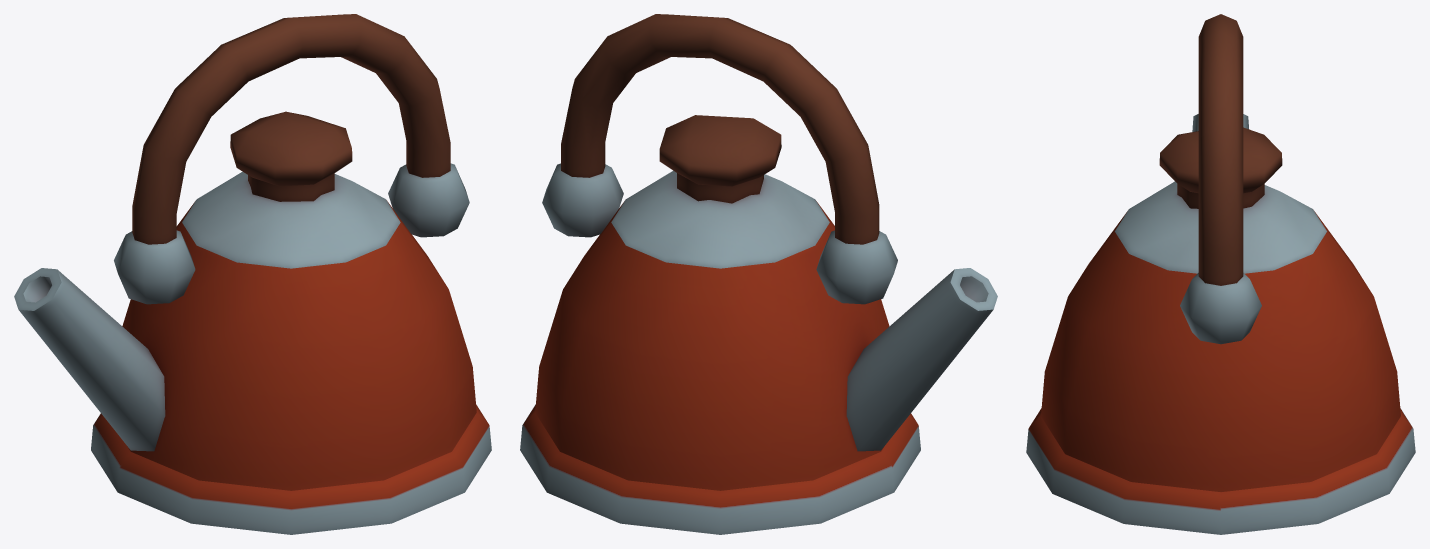
Rendered from kettle_01.fbx.
3 views of the same model, side by side, from view 1: azimuth 30°, elevation 25°; view 2: azimuth 150°, elevation 25°; view 3: azimuth 270°, elevation 25° (orthographic). The views are drawn at different scales.
Visible parts, largest first — view 1: kettle_01_ready; view 2: kettle_01_ready; view 3: kettle_01_ready.
Part boxes in pixels (bbox=[...]): kettle_01_ready: bbox=[14, 14, 491, 534]; kettle_01_ready: bbox=[520, 14, 997, 534]; kettle_01_ready: bbox=[1026, 14, 1415, 534].
Size of the model in its own units: 47.58 by 43.96 by 36.95.
